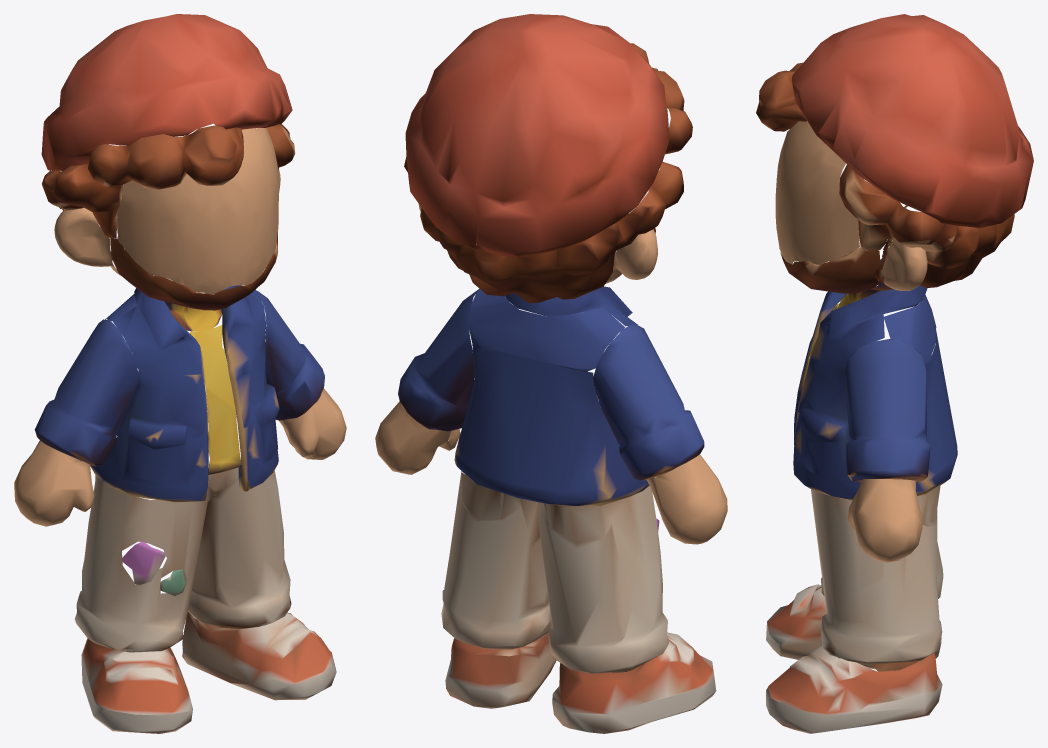
3 renders of one model, left to right at view 1: azimuth 30°, elevation 25°; view 2: azimuth 150°, elevation 25°; view 3: azimuth 270°, elevation 25°, orthographic. The views are drawn at different scales.
Parts seen in each view (by area): view 1: bottom, top, acc_head_0, head, hair, shoe_l, sleeve_r, shoe_r, hand_r, sleeve_l, acc_head_beard, hand_l; view 2: acc_head_0, bottom, top, hair, sleeve_r, shoe_r, sleeve_l, shoe_l, hand_r, hand_l, head; view 3: acc_head_0, top, bottom, shoe_l, sleeve_l, head, hair, hand_l, acc_head_beard, shoe_r.
Boxes of the visible parts, x1,y1,x2,y2 form: bottom: (74,467,291,652); top: (90,274,279,502); acc_head_0: (41,14,292,171); head: (54,127,280,294); hair: (42,124,295,259); shoe_l: (182,612,336,700); sleeve_r: (34,319,138,466); shoe_r: (81,638,192,733); hand_r: (14,440,94,526); sleeve_l: (254,290,324,420); acc_head_beard: (110,232,277,331); hand_l: (279,388,346,459); acc_head_0: (405,14,669,257); bottom: (441,471,668,673); top: (454,286,654,505); hair: (404,43,692,302); sleeve_r: (593,324,704,480); shoe_r: (552,632,716,733); sleeve_l: (398,288,481,431); shoe_l: (445,632,556,708); hand_r: (647,454,727,544); hand_l: (375,401,460,474); head: (418,204,657,283); acc_head_0: (792,14,1033,227); top: (793,259,957,500); bottom: (811,485,943,664); shoe_l: (766,646,942,733); sleeve_l: (844,339,930,482); head: (775,121,927,290); hair: (756,62,1014,287); hand_l: (848,479,922,562); acc_head_beard: (780,247,893,308); shoe_r: (766,584,941,669).
Bounding box in the file's own units: 0.5341 × 1.03 × 0.3948.
